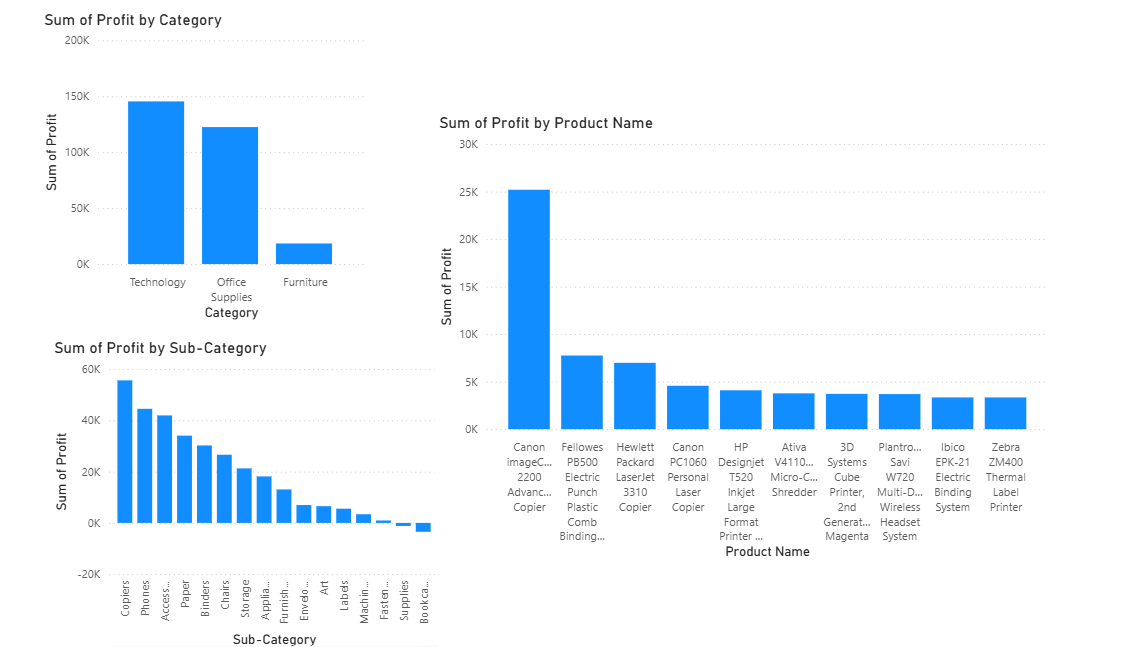

This screenshot's page, from the dashboard's own definition file:
{"tool":"powerbi","page":{"name":"Product Profitability ","canvas":[1280,720],"ordinal":2},"visuals":[{"type":"clusteredColumnChart","fields":{"Category":["Sample - Superstore.Category"],"Y":["Sum(Sample - Superstore.Profit)"]},"box":[61.7,20.6,355.4,338.9],"z":0},{"type":"clusteredColumnChart","fields":{"Category":["Sample - Superstore.Sub-Category"],"Y":["Sum(Sample - Superstore.Profit)"]},"box":[72.7,374.6,425.4,345.8],"z":1000},{"type":"clusteredColumnChart","fields":{"Category":["Sample - Superstore.Product Name"],"Y":["Sum(Sample - Superstore.Profit)"]},"box":[487.5,132.5,666.2,485],"z":2000}]}

Visuals, with their boxes in screenshot pixels (x1, y1, x2, y2), scaled from the page's 1280x720 canvas onto the 1133x647 screenshot:
clusteredColumnChart - Sample - Superstore.Category x Sum(Sample - Superstore.Profit): [55,19,369,323]
clusteredColumnChart - Sample - Superstore.Sub-Category x Sum(Sample - Superstore.Profit): [64,337,441,646]
clusteredColumnChart - Sample - Superstore.Product Name x Sum(Sample - Superstore.Profit): [432,119,1021,555]
